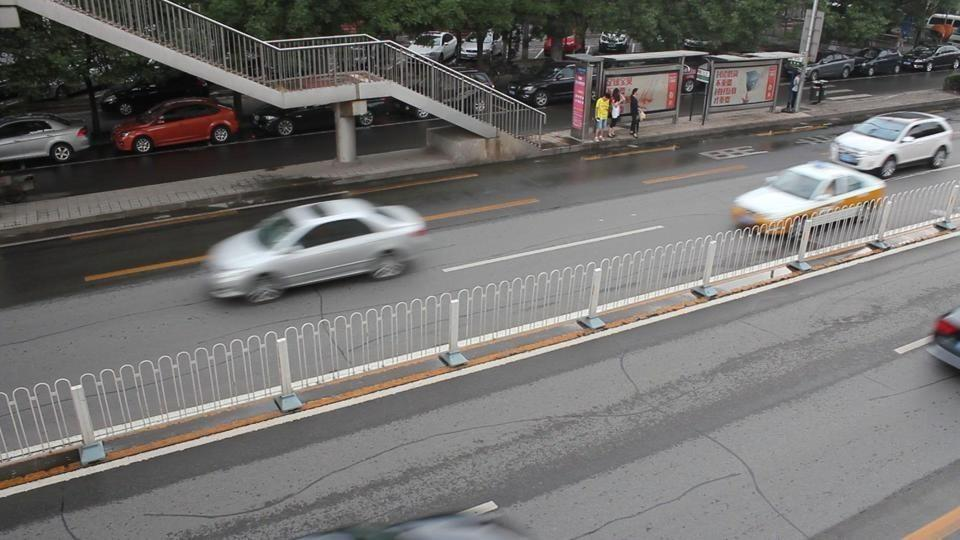car: (200, 197, 427, 304), (728, 160, 886, 234), (830, 113, 956, 178), (110, 96, 240, 155), (1, 114, 92, 165), (502, 64, 582, 107), (925, 305, 960, 372), (407, 31, 461, 64), (803, 54, 857, 81), (850, 50, 903, 77), (913, 46, 960, 72), (595, 31, 630, 54)
